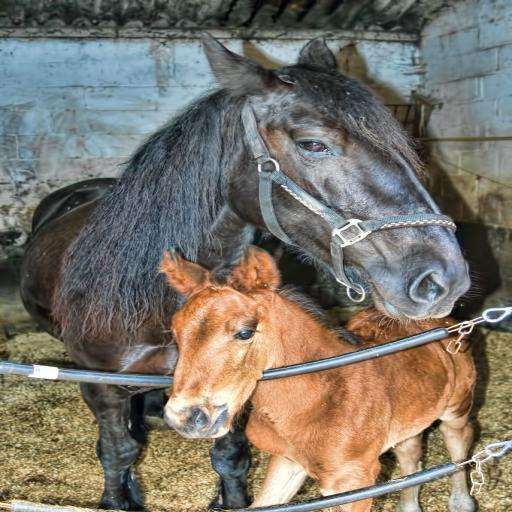horse: (17, 33, 474, 512), (155, 243, 478, 511)
